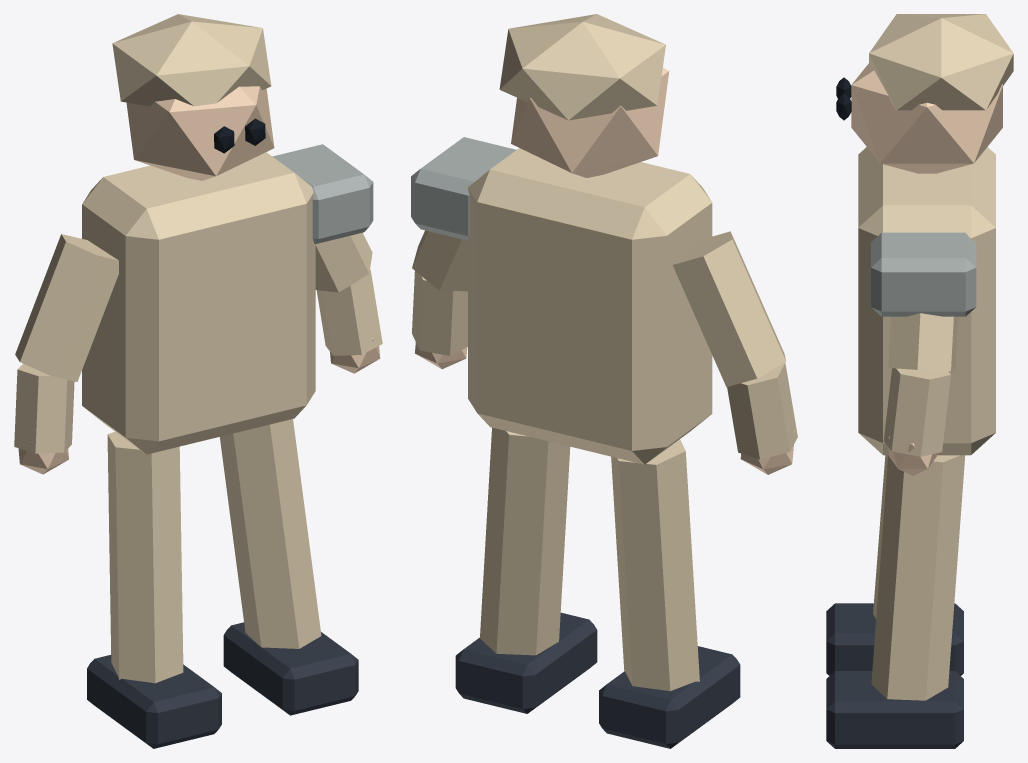
Rendered from npcs_010_seed11.glb.
3 views of the same model, side by side, from view 1: azimuth 30°, elevation 25°; view 2: azimuth 150°, elevation 25°; view 3: azimuth 270°, elevation 25° (orthographic). The views are drawn at different scales.
Parts seen in each view (by area): view 1: npcs_010_seed11; view 2: npcs_010_seed11; view 3: npcs_010_seed11.
Boxes of the visible parts, x1,y1,x2,y2 form: npcs_010_seed11: (14, 14, 382, 748); npcs_010_seed11: (411, 14, 797, 748); npcs_010_seed11: (826, 14, 1013, 748).
Size of the model in its own units: 1.19 by 2.1 by 0.5271.
